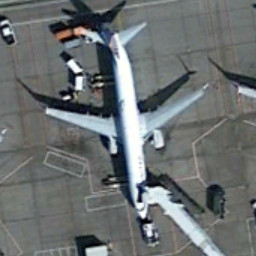Airplane: (33, 13, 220, 229)
